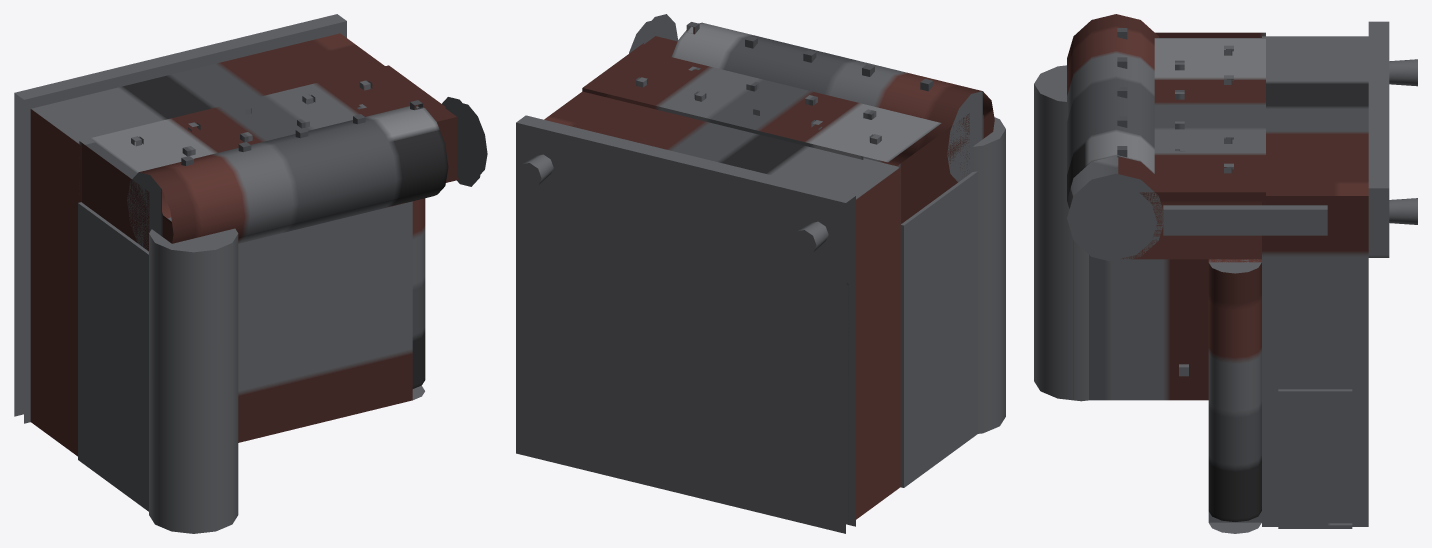
File: section-0.obj
The picture shows the model from 3 angles, left to right: view 1: azimuth 30°, elevation 25°; view 2: azimuth 150°, elevation 25°; view 3: azimuth 270°, elevation 25°; orthographic projection. The views are drawn at different scales.
Size of the model in its own units: 1.01 by 0.963 by 0.935.
